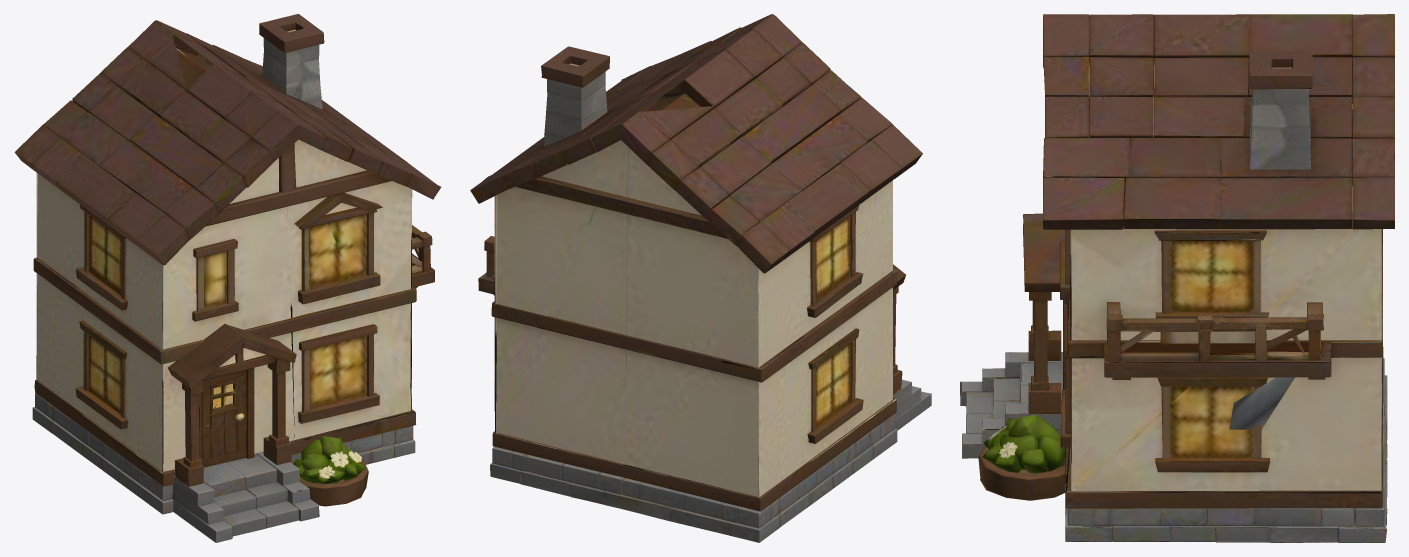
Rendered from house_cream_balcony.glb.
3 renders of one model, left to right at view 1: azimuth 30°, elevation 25°; view 2: azimuth 150°, elevation 25°; view 3: azimuth 270°, elevation 25°, orthographic. The views are drawn at different scales.
Parts seen in each view (by area): view 1: geometry_0; view 2: geometry_0; view 3: geometry_0.
Part boxes in pixels (bbox=[...]): geometry_0: bbox=[14, 14, 441, 542]; geometry_0: bbox=[470, 14, 931, 542]; geometry_0: bbox=[960, 14, 1394, 542].
Bounding box in the file's own units: 0.8174 × 0.9541 × 0.8218.
Materials: 1 (1 with a texture image).
